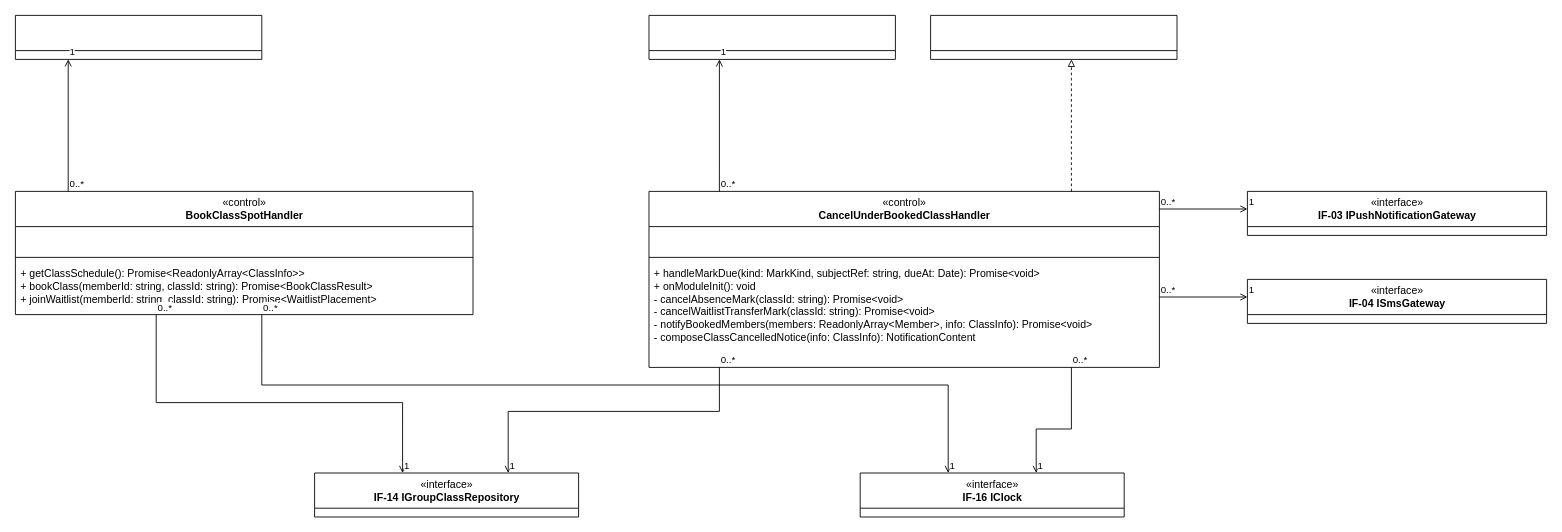
The diagram is 1562 pixels wide and 532 high, and some of its shapes have lost their labels. The shapes that lost their labels are listed below. From the top down, each one's centre as x and y in pixels, then its label:
point 138,37: «interface» IF-11 IAccountRepository
point 771,37: «interface» IF-06 IScheduler
point 1053,37: «interface» IF-10 IScheduleMarkHandler
